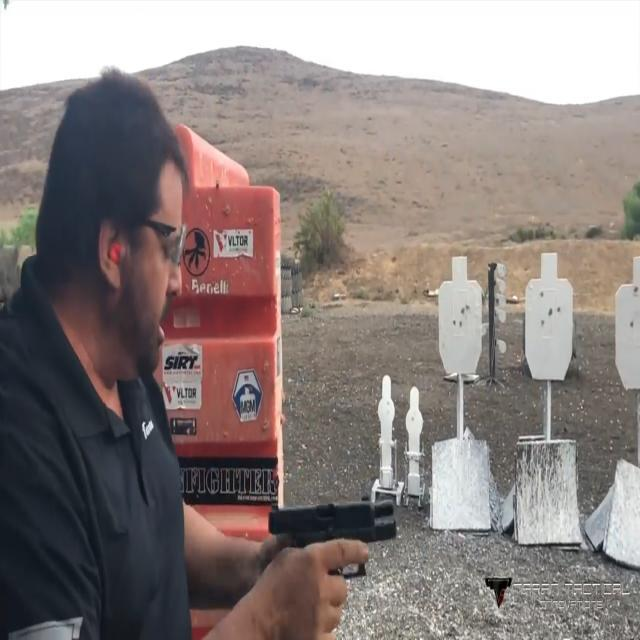Handgun: (258, 494, 402, 634)
